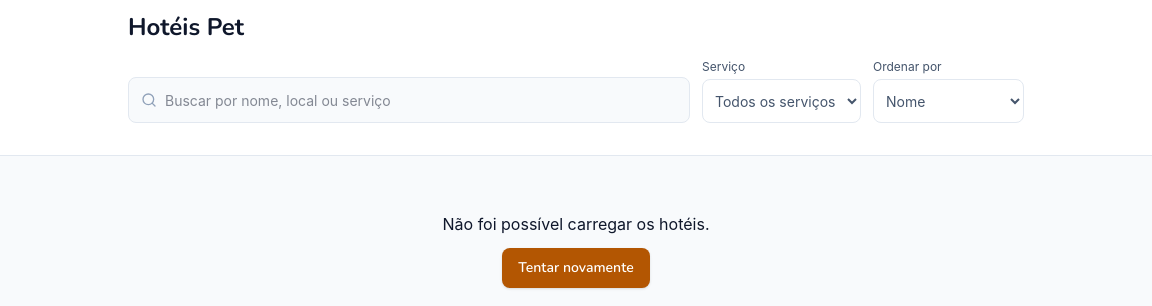
it: vitrine HOTEL › distingue erro de vazio e permite tentar novamente
The width and height of the screenshot is (1152, 306).
expect the message "Não foi possível carregar os hotéis. Tentar novamente" is shown: met, box [442,214,710,288]
Click the button "Tentar novamente" at {"x": 576, "y": 268}, box [502,248,650,288]
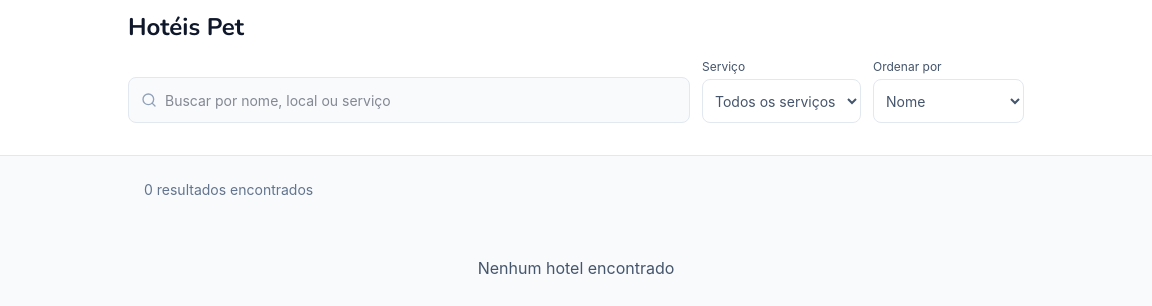
expect the text "Nenhum hotel encontrado" is shown: met, box [478,258,674,278]
